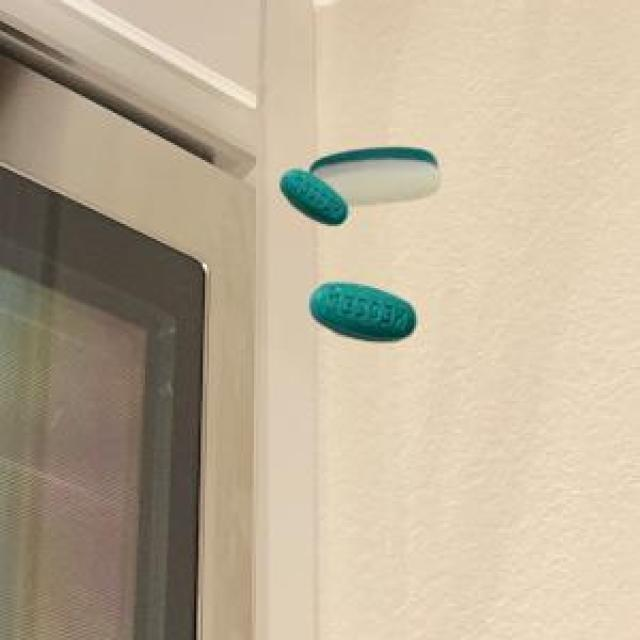Neozep: (270, 136, 454, 233), (300, 275, 436, 350)
